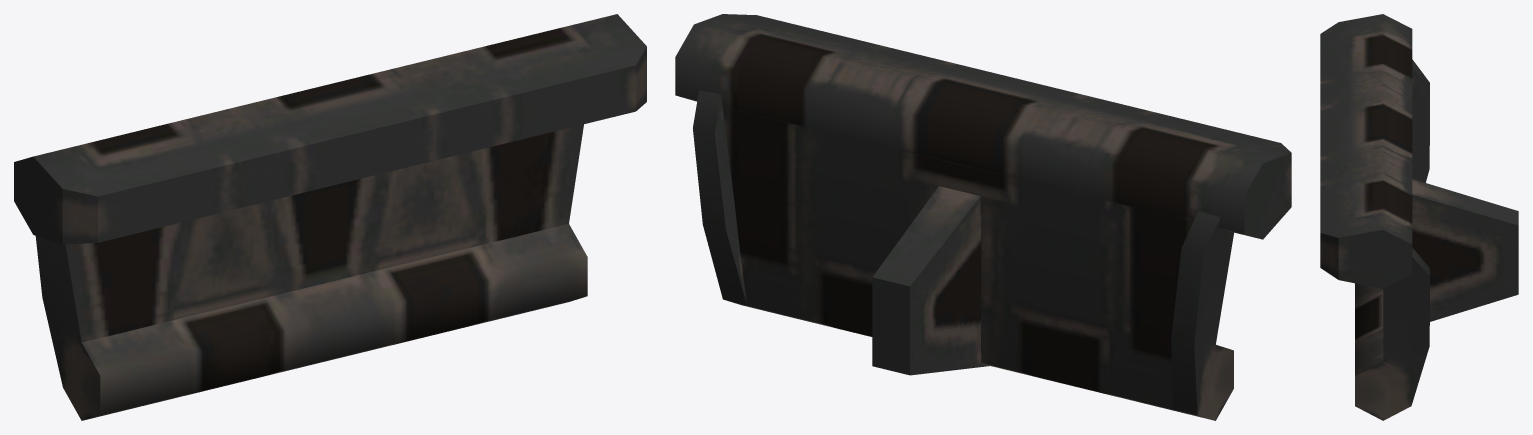
3 views of the same model, side by side, from view 1: azimuth 30°, elevation 25°; view 2: azimuth 150°, elevation 25°; view 3: azimuth 270°, elevation 25° (orthographic). The views are drawn at different scales.
Parts seen in each view (by area): view 1: set_0_group_0; view 2: set_0_group_0; view 3: set_0_group_0.
Boxes of the visible parts, x1,y1,x2,y2 form: set_0_group_0: [14, 14, 646, 420]; set_0_group_0: [675, 14, 1291, 420]; set_0_group_0: [1320, 14, 1518, 420].
Size of the model in its own units: 0.2527 by 0.1142 by 0.0983.
1 material, 1 textured.
